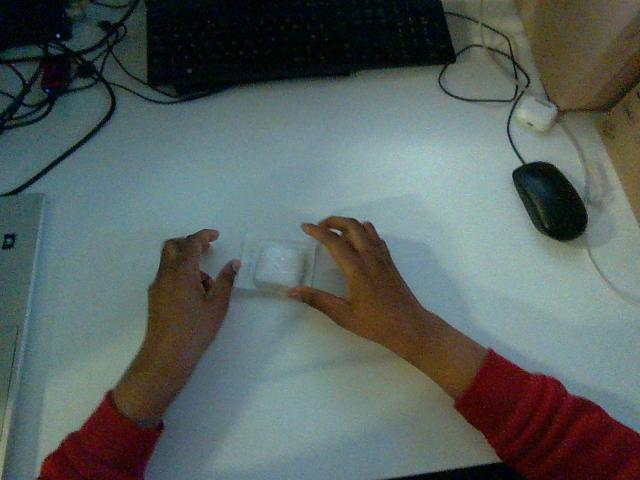gauze: (235, 236, 315, 292)
